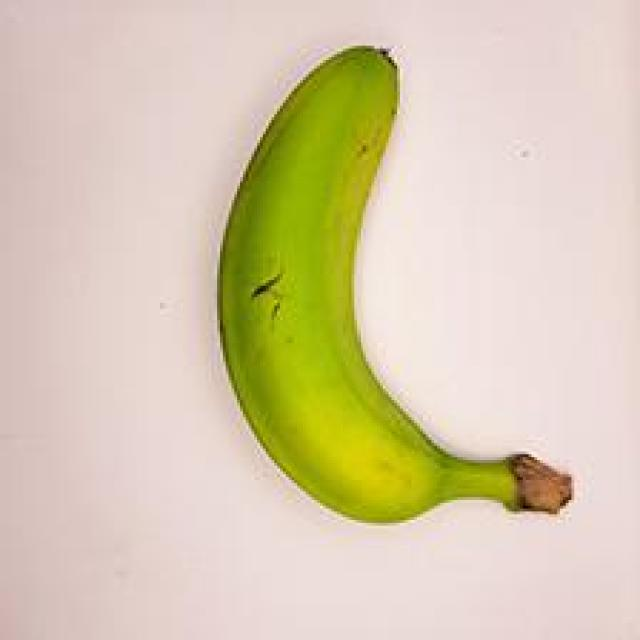Unripe: (200, 16, 594, 558)
